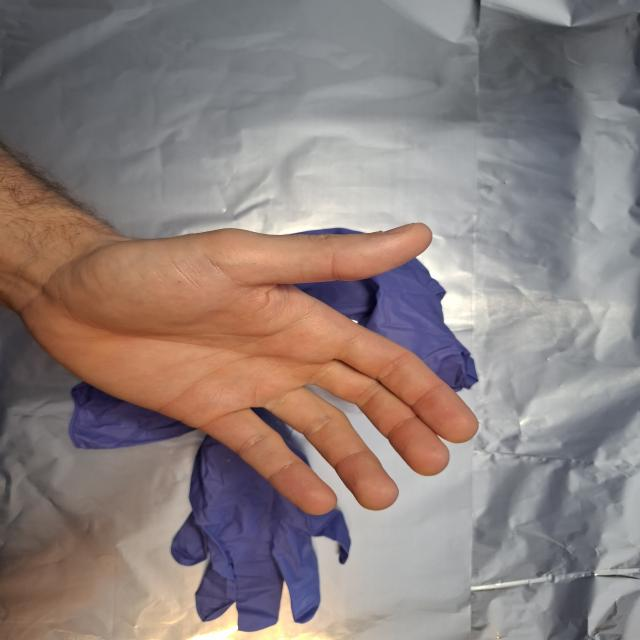glove_off: (16, 220, 482, 516)
